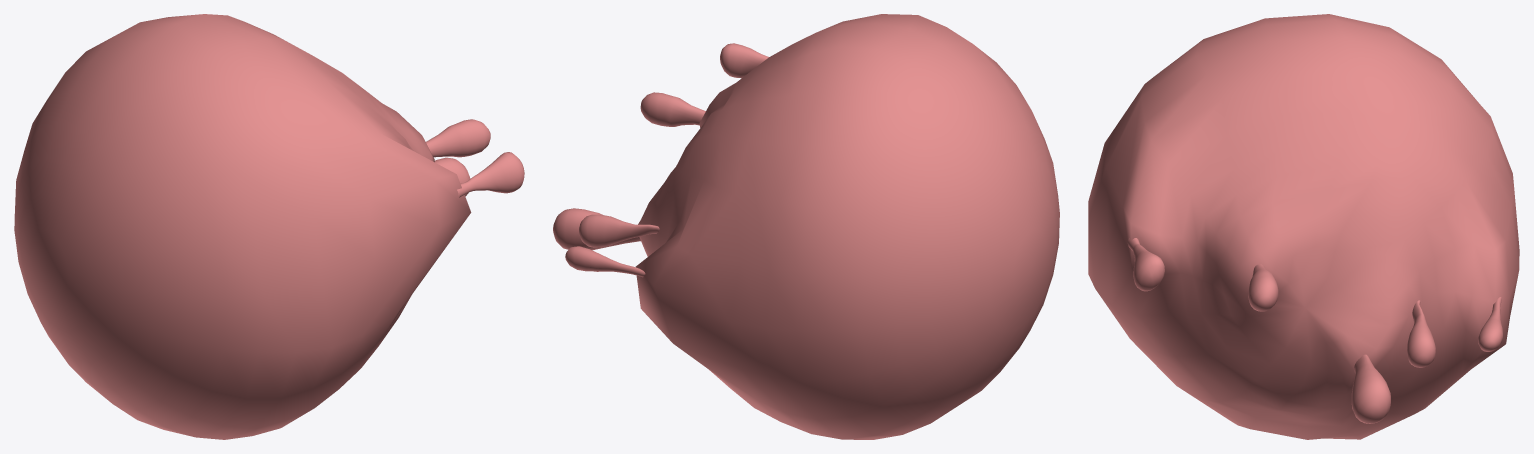
Rendered from bullet_red.fbx.
3 views of the same model, side by side, from view 1: azimuth 30°, elevation 25°; view 2: azimuth 150°, elevation 25°; view 3: azimuth 270°, elevation 25° (orthographic). The views are drawn at different scales.
Parts seen in each view (by area): view 1: polySurface21; view 2: polySurface21; view 3: polySurface21.
Boxes of the visible parts, bbox=[...] form: polySurface21: bbox=[14, 14, 524, 439]; polySurface21: bbox=[553, 14, 1059, 439]; polySurface21: bbox=[1088, 14, 1519, 439].
Size of the model in its own units: 2.26 by 1.88 by 1.87.
